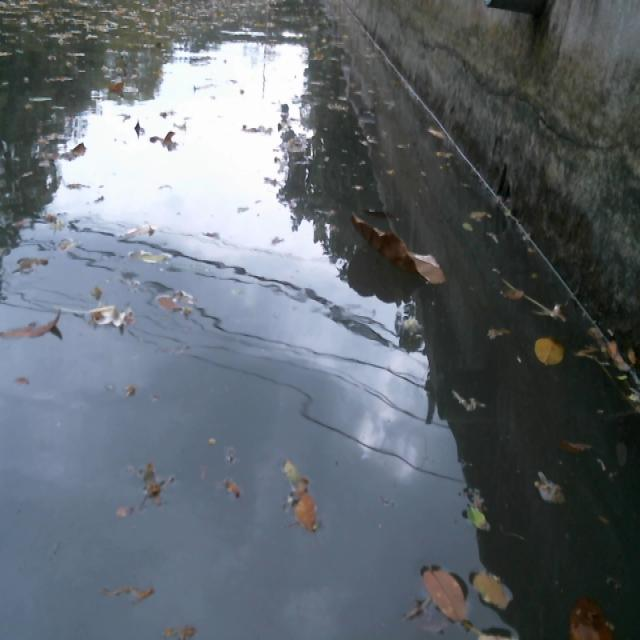Big-leaf: (345, 204, 452, 289)
Small-leaf: (413, 559, 474, 624), (0, 301, 64, 347), (562, 596, 621, 640), (471, 564, 515, 617), (85, 298, 135, 334), (528, 472, 573, 508), (533, 329, 568, 373), (290, 485, 321, 533), (465, 493, 494, 536), (127, 239, 176, 264), (152, 285, 187, 318), (18, 245, 53, 276), (217, 473, 248, 506), (281, 450, 302, 490), (155, 623, 204, 640), (479, 323, 512, 348), (115, 217, 158, 234), (111, 501, 139, 524), (457, 215, 477, 235)
